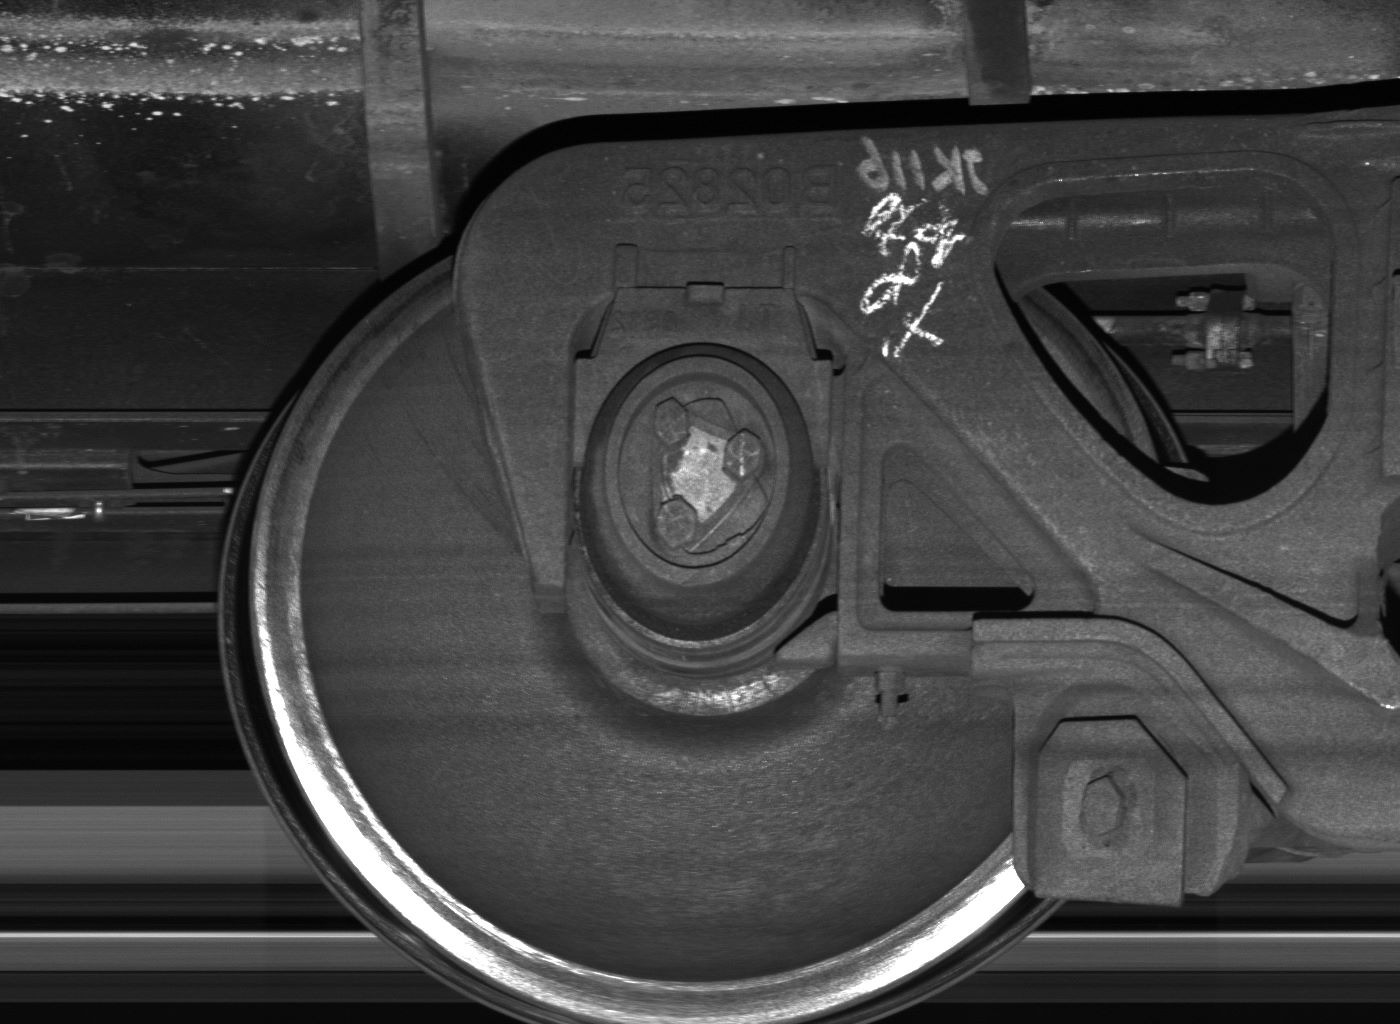normal: (1012, 680, 1222, 908)
